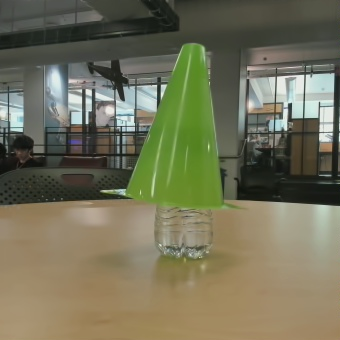Cone: (149, 30, 249, 193)
